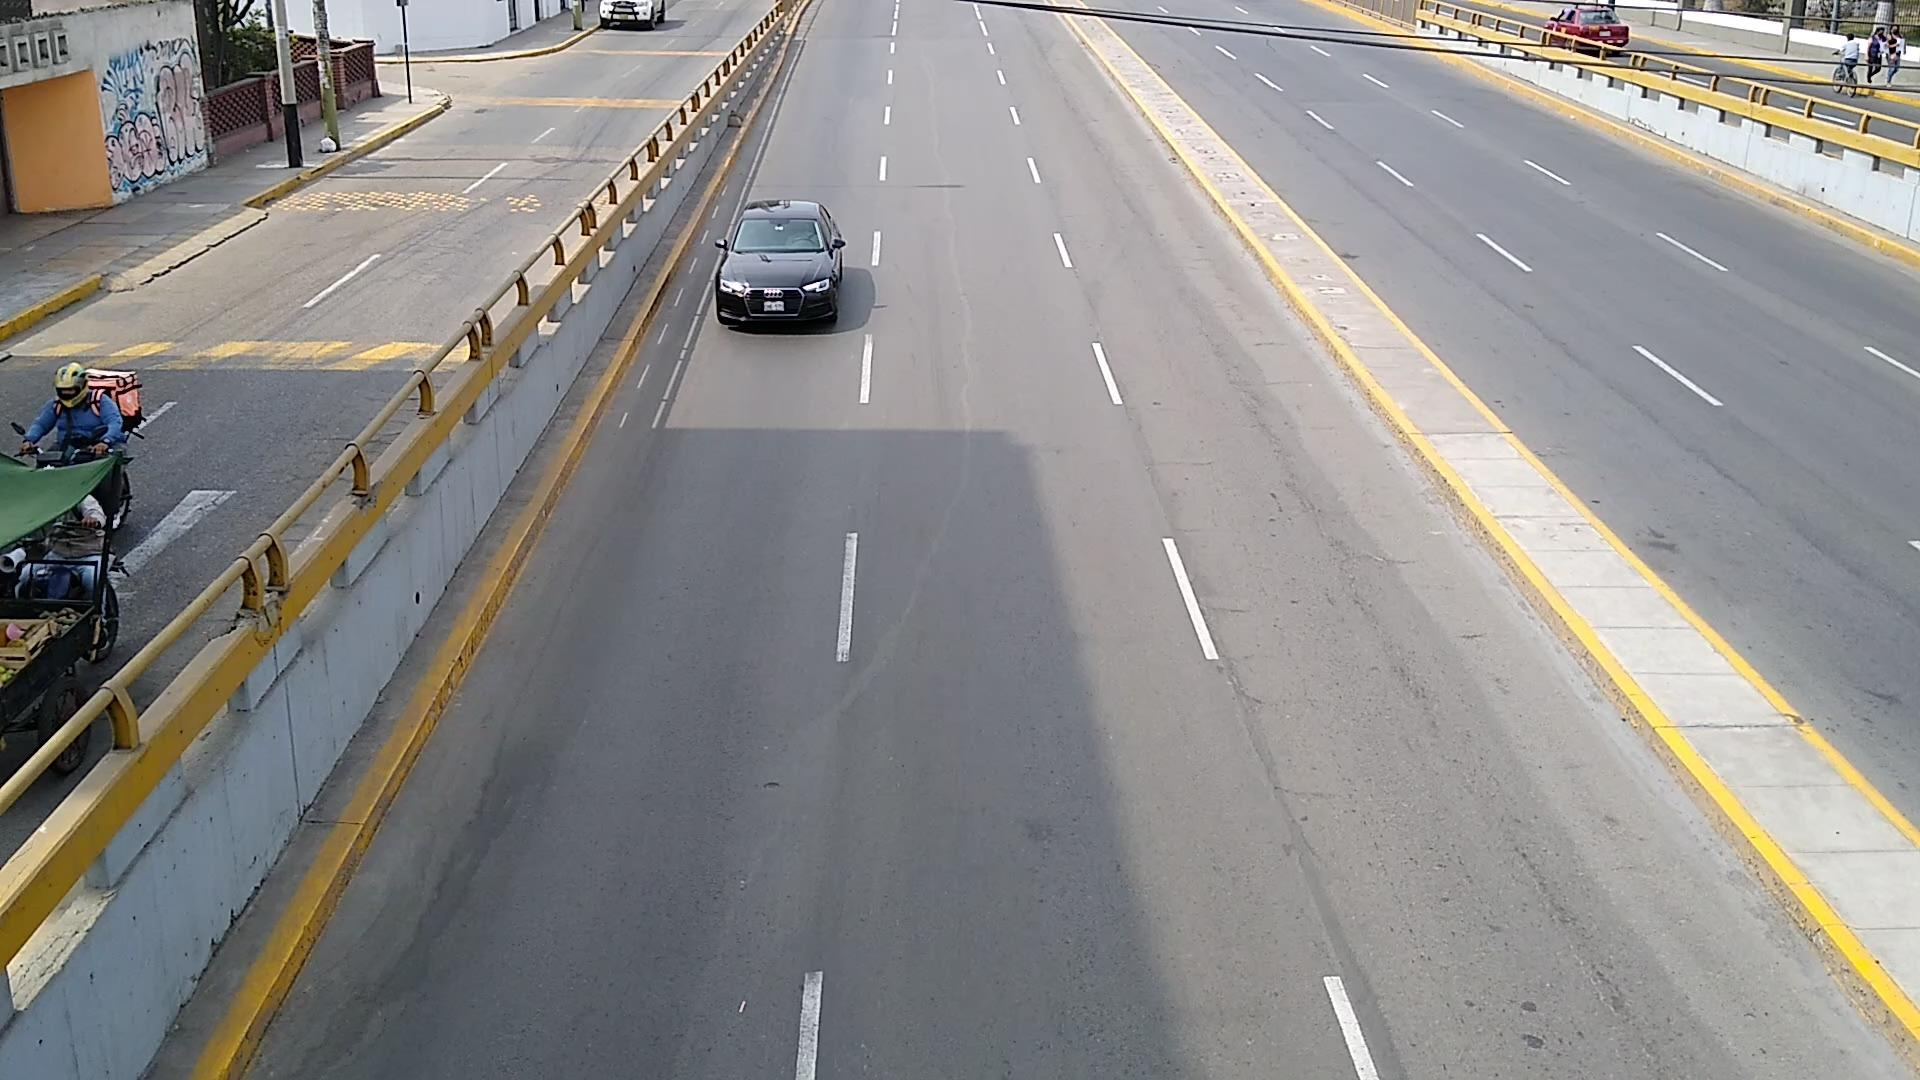car: (712, 199, 844, 326), (1541, 4, 1631, 51), (600, 0, 668, 30)
cyclist: (1834, 34, 1864, 92)
motorcyclist: (22, 364, 128, 458), (98, 476, 120, 519)
pedestrian: (1886, 26, 1905, 84), (1868, 26, 1886, 81)
